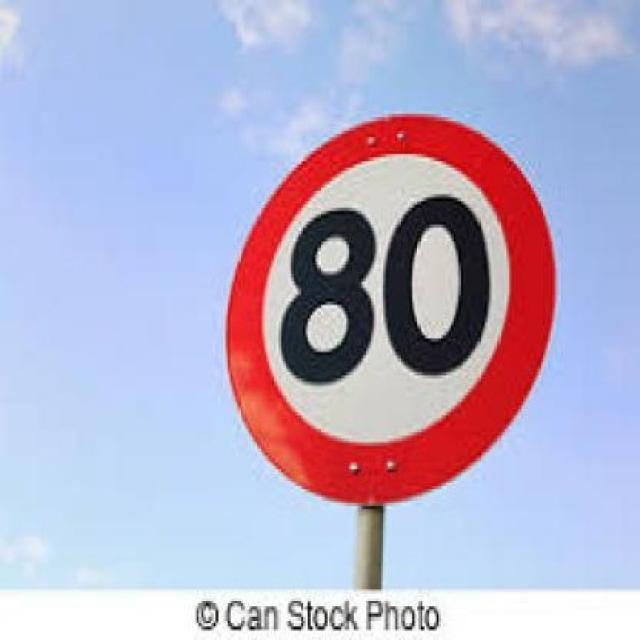forb_speed_over_80: (229, 115, 549, 496)
